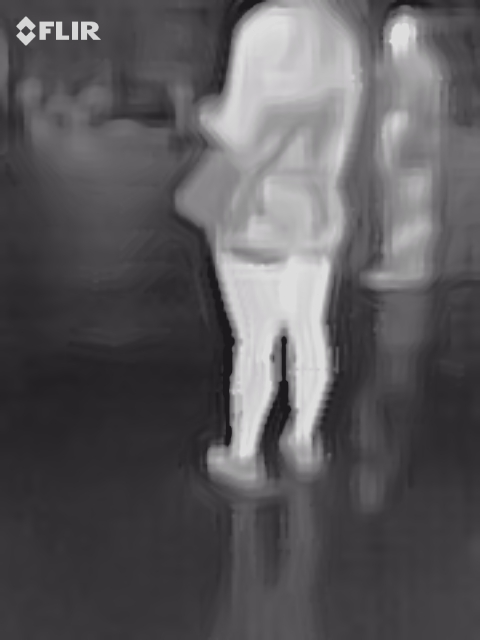head: (387, 15, 419, 52)
